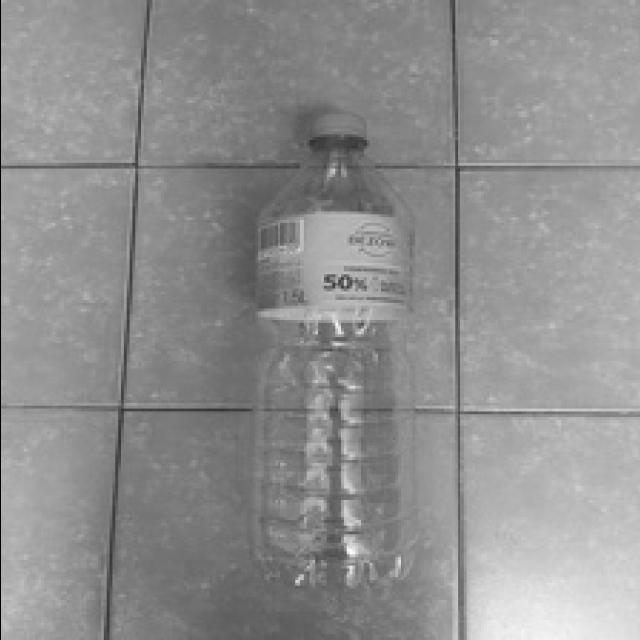good: (237, 70, 427, 636)
